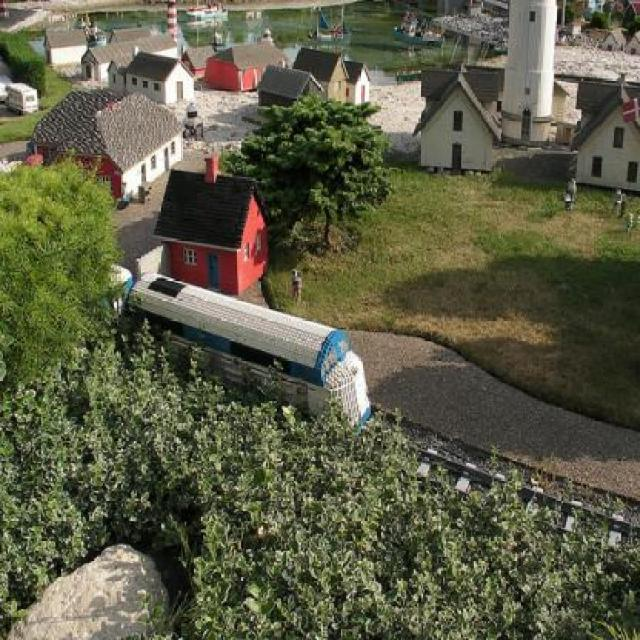ship: (302, 1, 371, 45), (388, 4, 450, 44), (180, 0, 248, 22)
